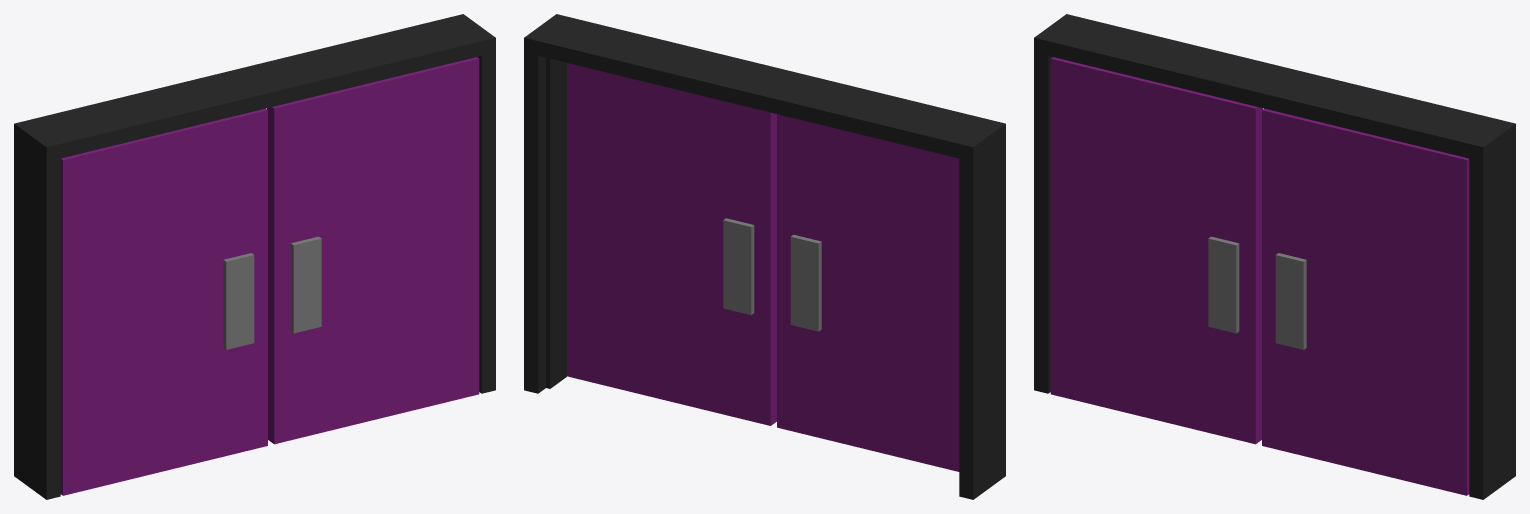
File: BigDoor.fbx
3 renders of one model, left to right at view 1: azimuth 30°, elevation 25°; view 2: azimuth 150°, elevation 25°; view 3: azimuth 330°, elevation 25°, orthographic.
Visible parts, largest first — view 1: Door001, Door, Frame; view 2: Door001, Door, Frame; view 3: Door, Door001, Frame.
Boxes of the visible parts, x1=… form: Door001: x1=267, y1=57, x2=479, y2=444; Door: x1=60, y1=108, x2=267, y2=495; Frame: x1=14, y1=14, x2=495, y2=499; Door001: x1=567, y1=63, x2=776, y2=425; Door: x1=777, y1=114, x2=959, y2=471; Frame: x1=524, y1=14, x2=1005, y2=499; Door: x1=1050, y1=57, x2=1262, y2=444; Door001: x1=1262, y1=108, x2=1469, y2=495; Frame: x1=1034, y1=14, x2=1515, y2=499.
Size of the model in its own units: 400 by 54.3 by 300.
